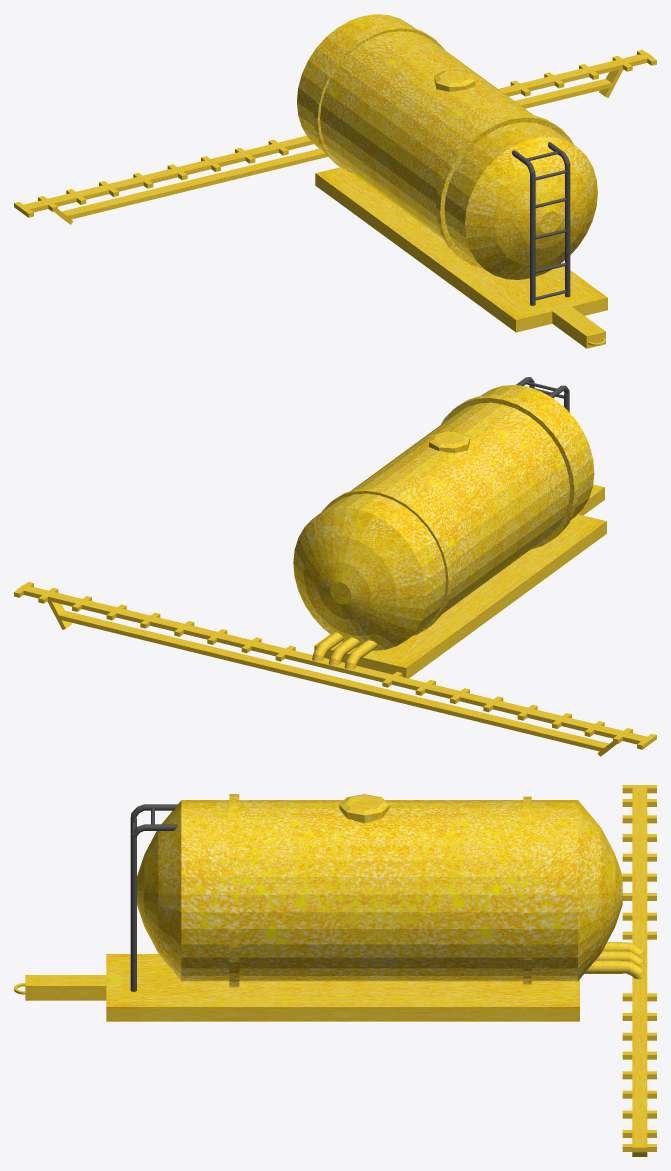
File: spri-tnks.FBX
3 views of the same model, one above another, from view 1: azimuth 30°, elevation 25°; view 2: azimuth 150°, elevation 25°; view 3: azimuth 270°, elevation 25° (orthographic). The views are drawn at different scales.
Parts seen in each view (by area): view 1: Box002; view 2: Box002; view 3: Box002.
Part boxes in pixels (left/top/right/bottom): Box002: left=14, top=14, right=656, bottom=348; Box002: left=14, top=377, right=656, bottom=756; Box002: left=14, top=785, right=656, bottom=1156.
Size of the model in its own units: 372 by 95.92 by 279.
Materials: 2 (1 with a texture image).
